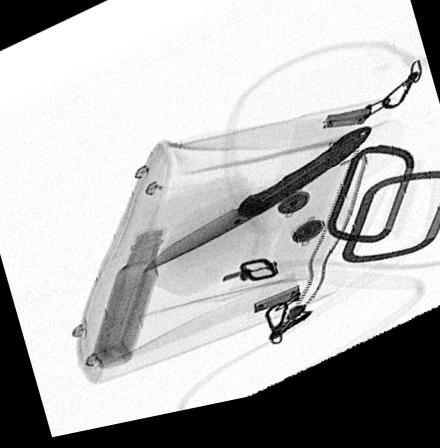Knife: (137, 140, 376, 281)
